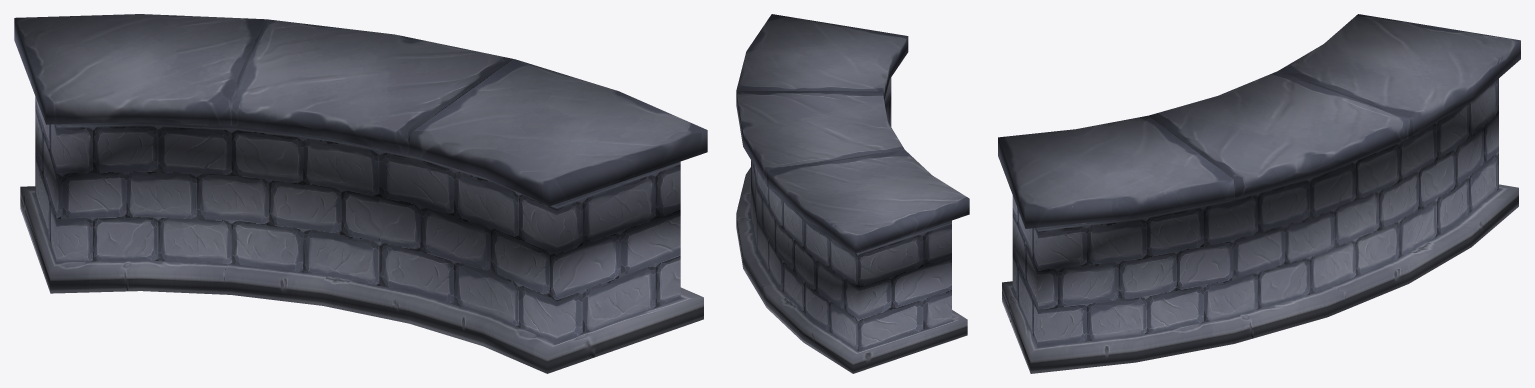
Rendered from FirepitBench.fbx.
The picture shows the model from 3 angles, left to right: view 1: azimuth 30°, elevation 25°; view 2: azimuth 150°, elevation 25°; view 3: azimuth 270°, elevation 25°; orthographic projection. The views are drawn at different scales.
Parts seen in each view (by area): view 1: benchShort; view 2: benchShort; view 3: benchShort.
Part boxes in pixels (x1,y1,x2,y2): benchShort: [14, 14, 707, 373]; benchShort: [736, 14, 969, 373]; benchShort: [998, 14, 1520, 373].
Size of the model in its own units: 32.66 by 12.76 by 36.79.
Materials: 1 (1 with a texture image).
